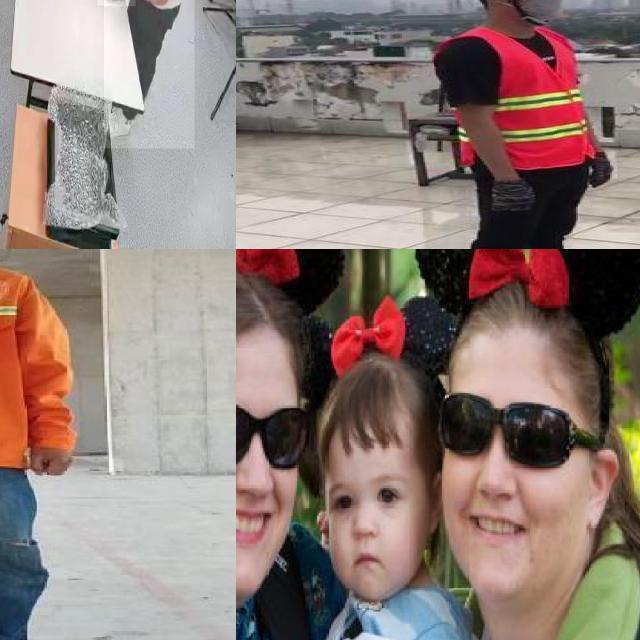No_Ear-Protection: (583, 442, 618, 536)
face_mask: (513, 0, 568, 19)
face_nomask: (438, 389, 573, 557), (236, 395, 305, 555), (328, 478, 417, 578)
glasses: (432, 386, 589, 476), (236, 396, 315, 472)
hand_glove: (489, 179, 535, 211)
hand_noglove: (18, 438, 79, 481)
head_nohelmet: (441, 288, 613, 371), (236, 251, 320, 377), (319, 352, 422, 454)
person: (0, 249, 128, 640), (428, 0, 624, 249), (104, 0, 195, 149)
shoes: (106, 100, 132, 139)
vest: (432, 30, 590, 168)
